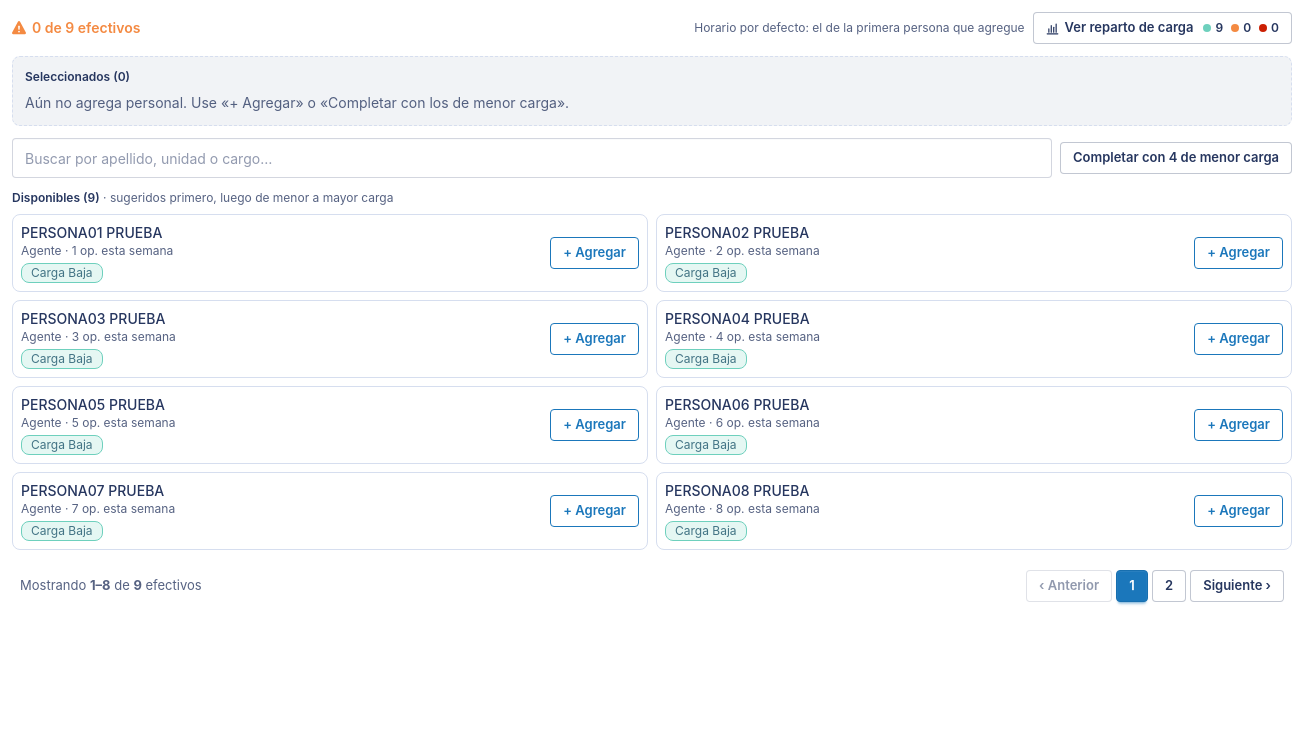
Test: Personal y horario · disponibles › agregar a la única de la última página la saca y la página retrocede
Click the button "Siguiente ›" at (1237, 586), box 1190,570 -> 1284,602
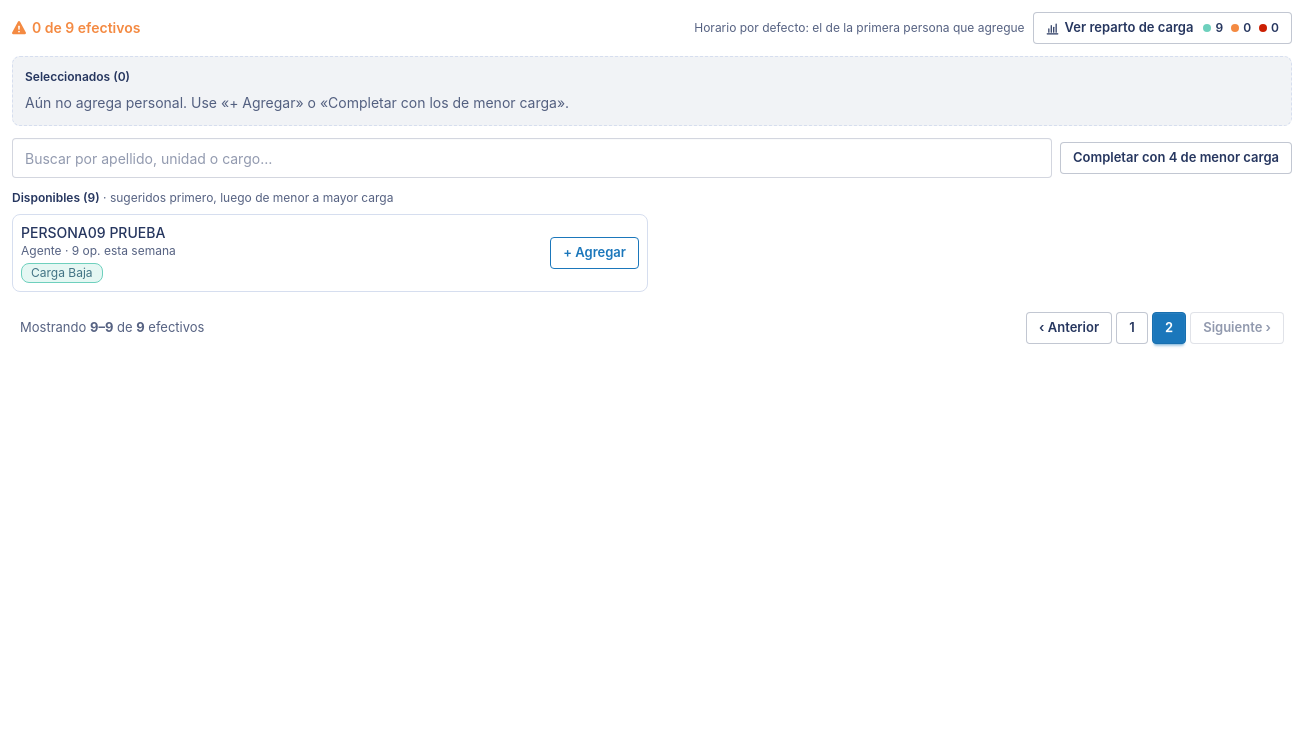
Click the button "+ Agregar" at (595, 253), box 550,237 -> 639,269
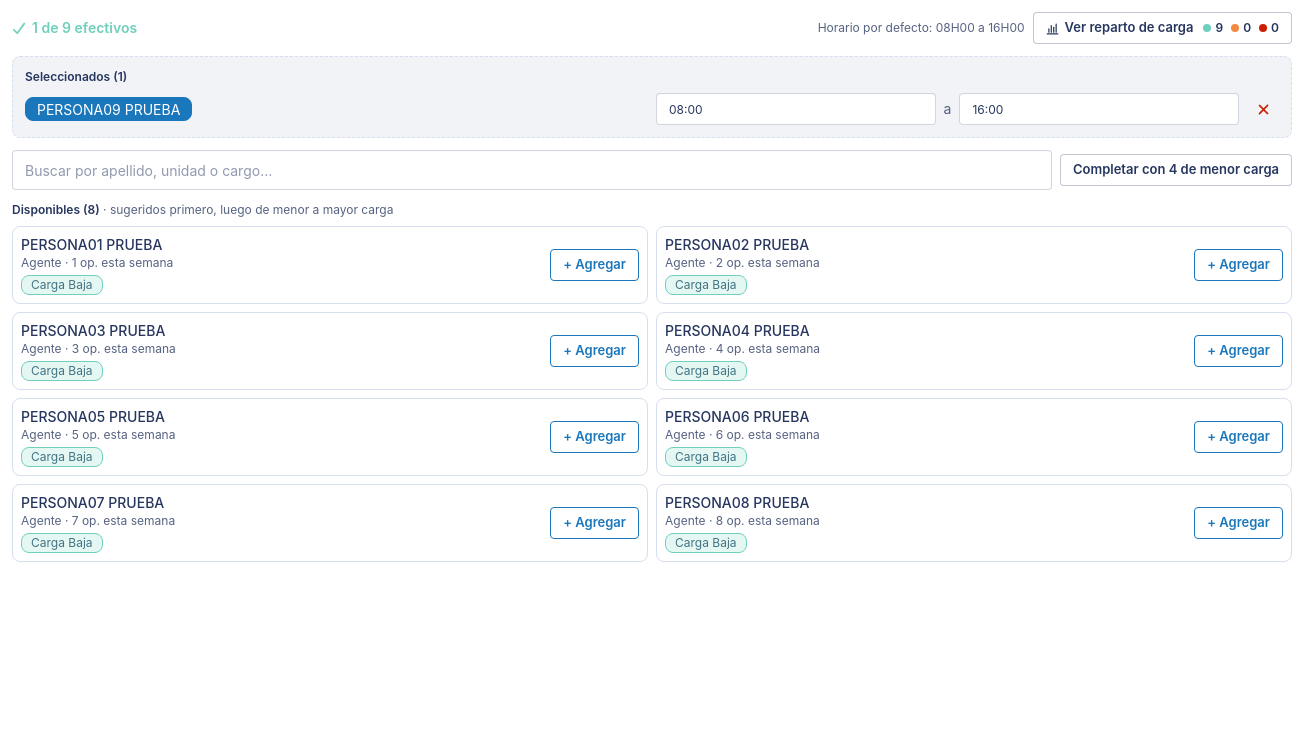
Now the text "Mostrando" is gone
Now the text "Seleccionados (1)" is shown, box 25,69 -> 127,85
